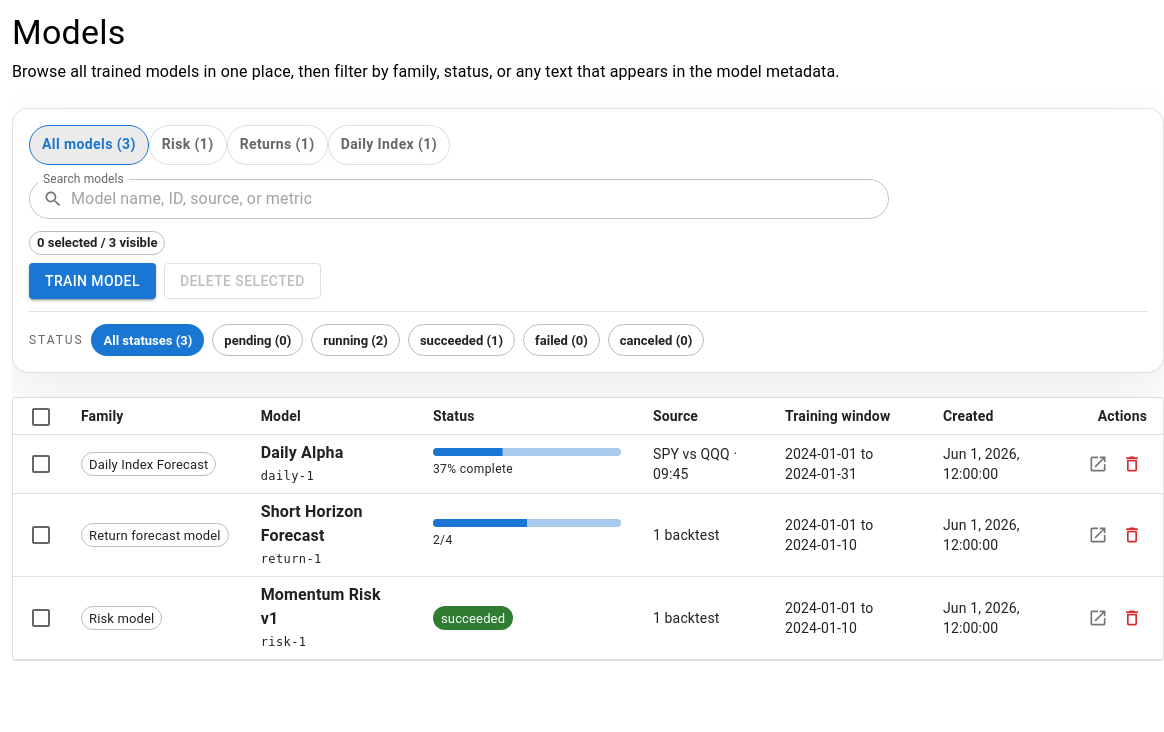
ModelsLandingPage › renders all model families in one list and filters by family
The image size is (1164, 732).
Expected: the text "Momentum Risk v1" is shown, [261, 583, 401, 631]
Expected: the tab "All models (3)" is shown, [29, 125, 149, 165]
Click the tab "Risk (1)".
click(188, 145)  # box [149, 125, 227, 165]
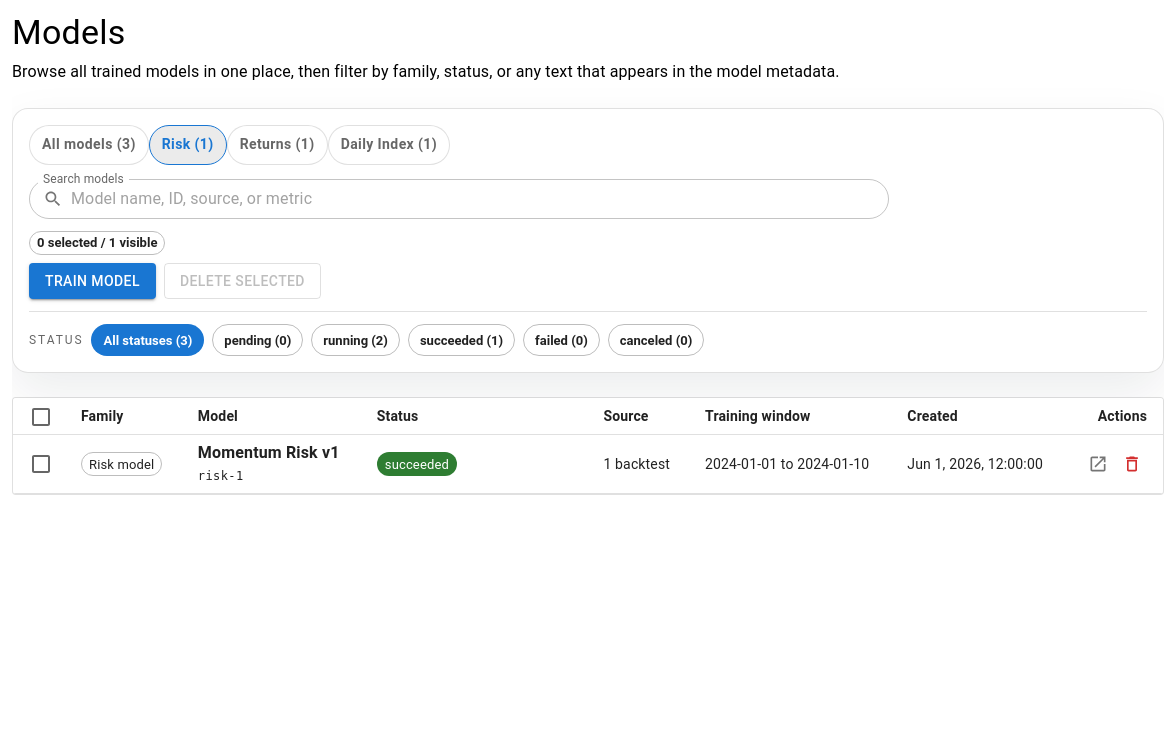
Expected: the text "Momentum Risk v1" is shown, [198, 442, 345, 466]
Expected: the text "Short Horizon Forecast" is gone
